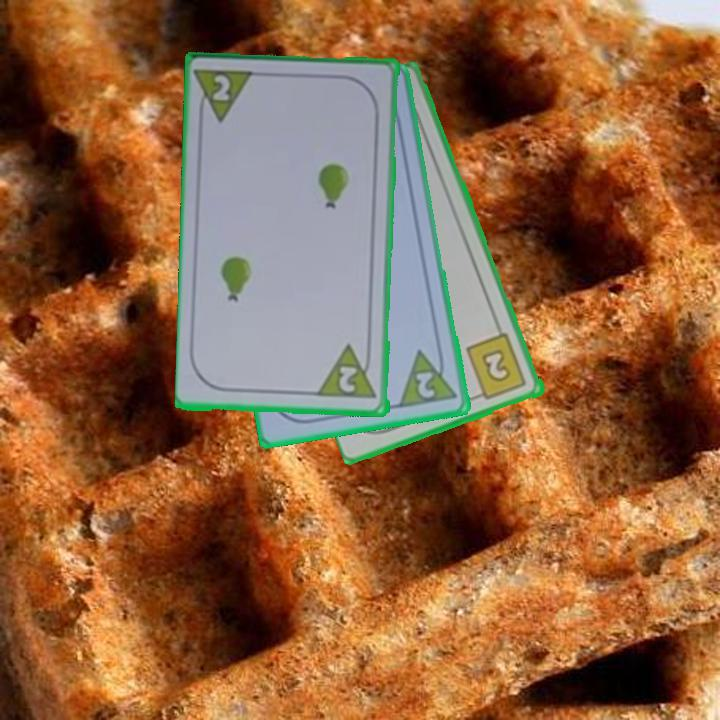2b: (463, 330, 530, 403)
2p: (396, 344, 461, 412), (193, 65, 259, 127), (335, 363, 361, 396)
